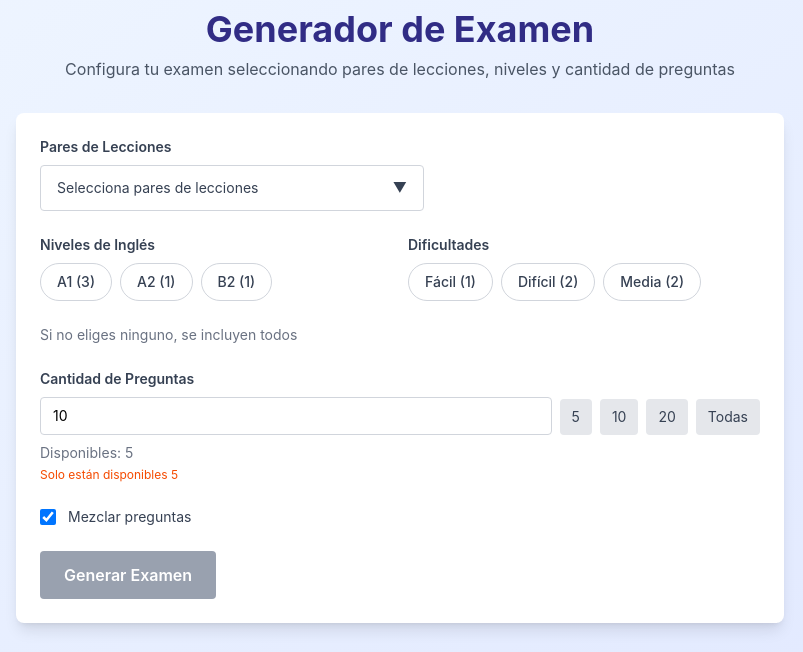
ConfigPage › Pair dropdown › "Limpiar" clears all selected pairs
Click the button "Selecciona pares de lecciones ▼" at (232, 188), box [40,165,424,211]
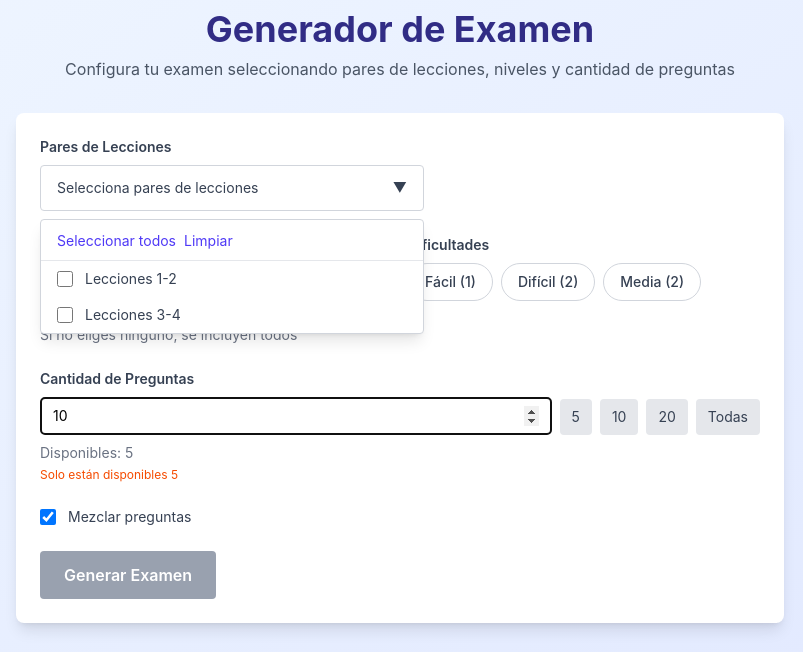
Click the button "Seleccionar todos" at (116, 241), box [57,231,176,251]
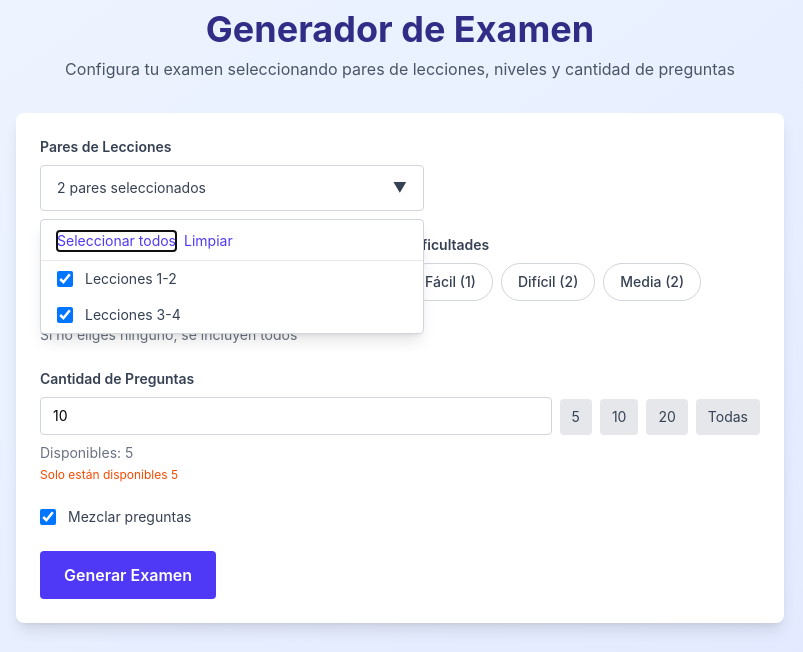
Result: the button named "Selecciona pares de lecciones" shows "2 pares seleccionados" at [40,165,424,211]
Click the button "Limpiar" at (208, 241), box [184,231,233,251]
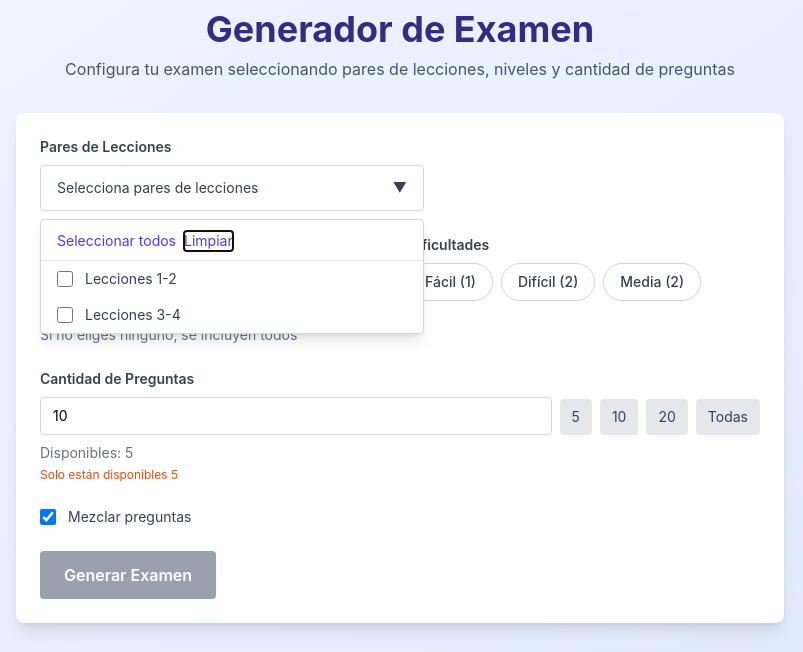
Result: the button "Selecciona pares de lecciones ▼" is shown at [40,165,424,211]
